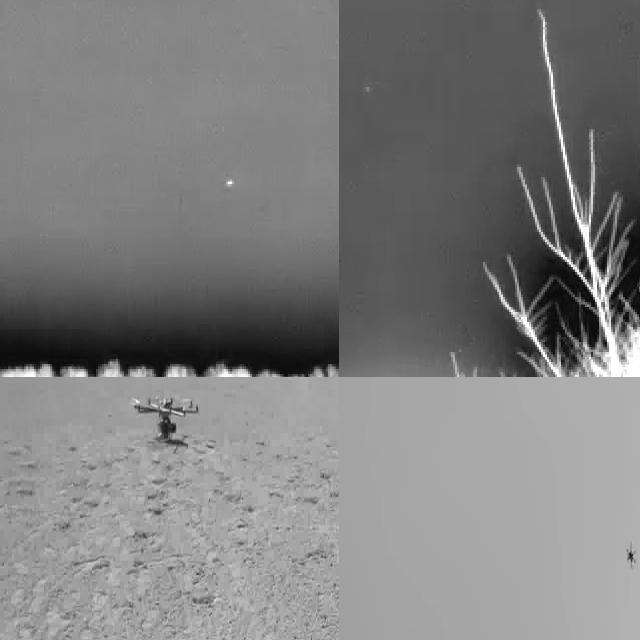0: (356, 77, 376, 105)
1: (213, 173, 239, 200)
drone: (131, 388, 199, 437), (620, 538, 640, 576)
